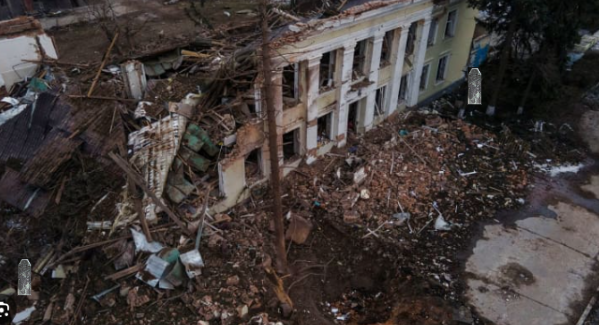HVT1: (17, 259, 31, 294), (468, 68, 481, 104)
